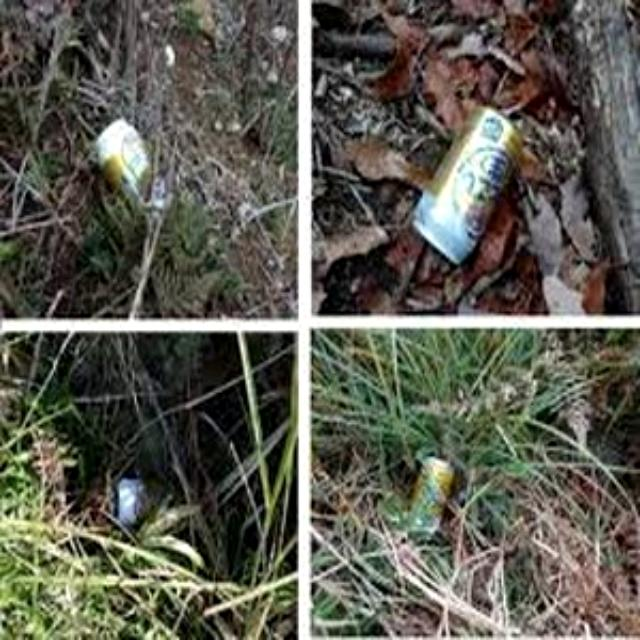Metal: (413, 106, 529, 260), (95, 116, 163, 204), (411, 462, 453, 530)
